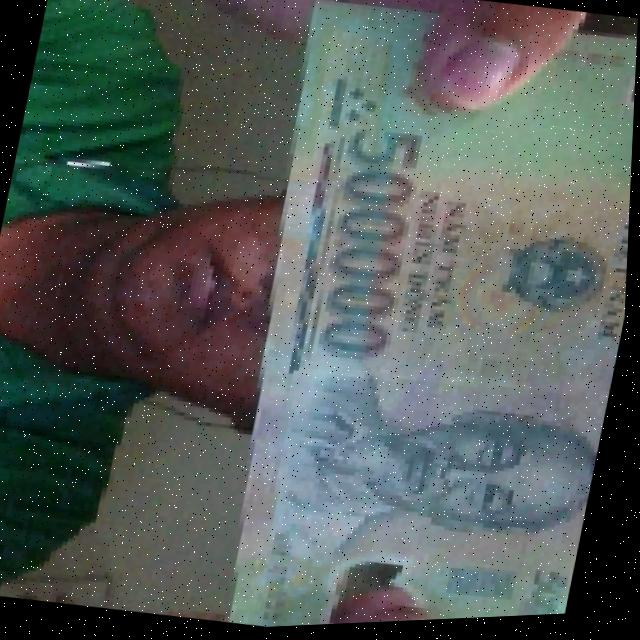500 000 VND: (196, 0, 640, 632)
